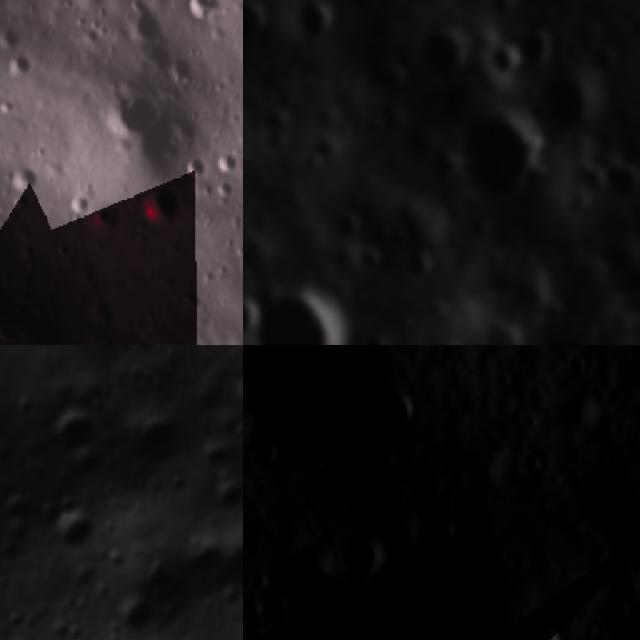crater: (371, 525, 551, 640), (274, 345, 414, 421), (104, 74, 214, 168), (454, 103, 536, 203), (244, 288, 353, 345), (579, 549, 640, 640), (528, 64, 600, 140), (36, 401, 106, 468), (120, 406, 187, 476), (326, 518, 391, 588), (364, 497, 430, 565), (491, 274, 554, 336), (104, 584, 164, 640), (370, 378, 428, 435), (45, 506, 99, 567), (415, 21, 467, 80), (286, 536, 337, 591), (262, 612, 360, 640), (197, 469, 243, 525), (184, 431, 233, 482), (143, 182, 192, 229), (102, 345, 196, 369), (121, 0, 170, 45), (511, 25, 556, 74), (513, 606, 573, 640), (392, 246, 442, 286), (598, 152, 640, 197), (609, 263, 640, 317), (244, 435, 286, 474), (486, 37, 521, 82), (294, 0, 333, 40), (243, 389, 265, 457), (11, 160, 49, 199), (364, 59, 404, 96), (182, 0, 228, 30), (537, 322, 592, 345), (480, 319, 526, 345), (345, 243, 380, 274), (17, 49, 49, 80), (0, 16, 33, 45), (327, 208, 360, 236), (226, 374, 243, 425), (353, 328, 397, 345), (341, 0, 384, 16)
